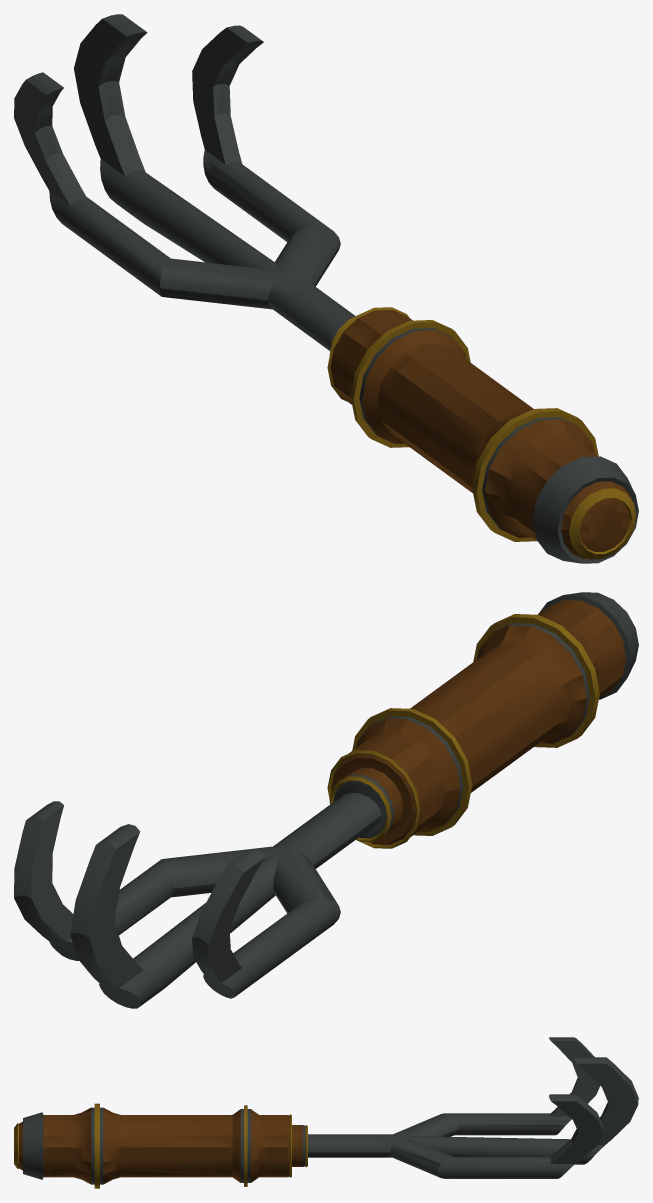
Rendered from Тяпка.fbx.
3 views of the same model, one above another, from view 1: azimuth 30°, elevation 25°; view 2: azimuth 150°, elevation 25°; view 3: azimuth 270°, elevation 25° (orthographic). The views are drawn at different scales.
Visible parts, largest first — view 1: Object_4.001; view 2: Object_4.001; view 3: Object_4.001.
Boxes of the visible parts, x1=… form: Object_4.001: x1=14, y1=14, x2=638, y2=563; Object_4.001: x1=14, y1=592, x2=638, y2=1008; Object_4.001: x1=14, y1=1037, x2=638, y2=1188.
Bounding box in the file's own units: 0.2949 × 0.2759 × 1.23.
